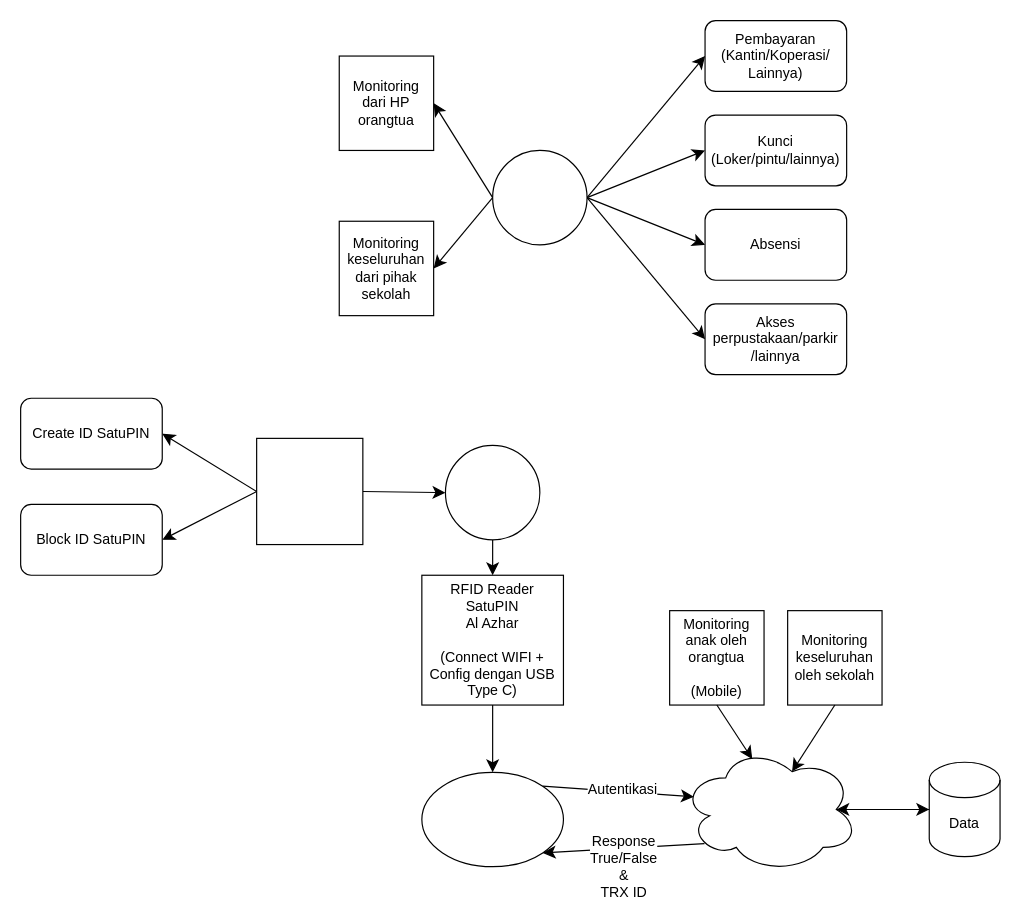
This 1021x922 diagram has some shape labels left out. The centre of each missing label's shape, as x and y in pixels:
"Control Admin Sekolah Guru/operator/ lainnya (Mobile/WEB)" goes at pixel 309 491.
"Get DATA (ID SatuPIN)" goes at pixel 492 819.
"SatuPIN" goes at pixel 539 197.
"SatuPIN Al Azhar" goes at pixel 492 492.
"Server SatuPIN" goes at pixel 769 809.
